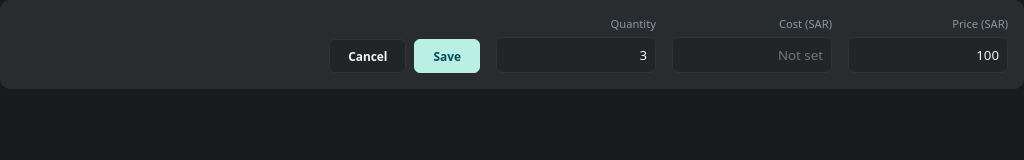
Test: ProductEditForm › validates the cost price
Type "-3" into the number field labelled "Cost (SAR)". click: (752, 55)
box: [672,37,832,73]
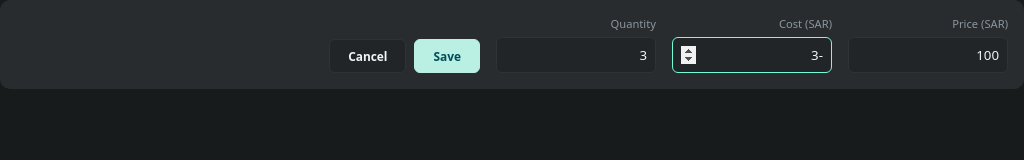
Click the button "Save". click: (447, 56)
box: [414,39,480,73]
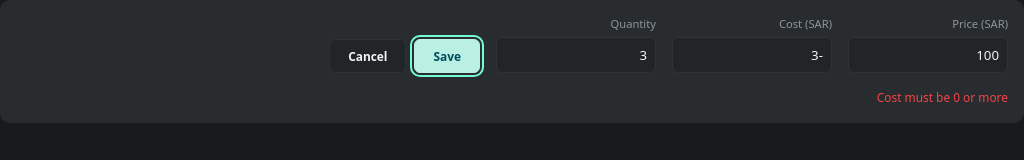
Expected: the message shows "Cost must be 0", [877,89,1008,105]
